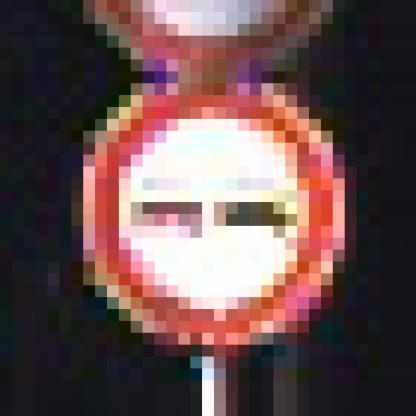No Overtaking: (61, 72, 358, 358)
